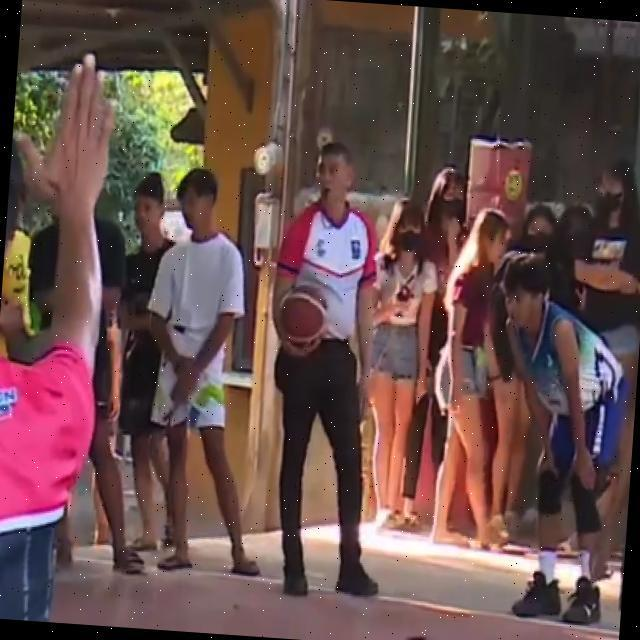ball: (268, 277, 336, 365)
